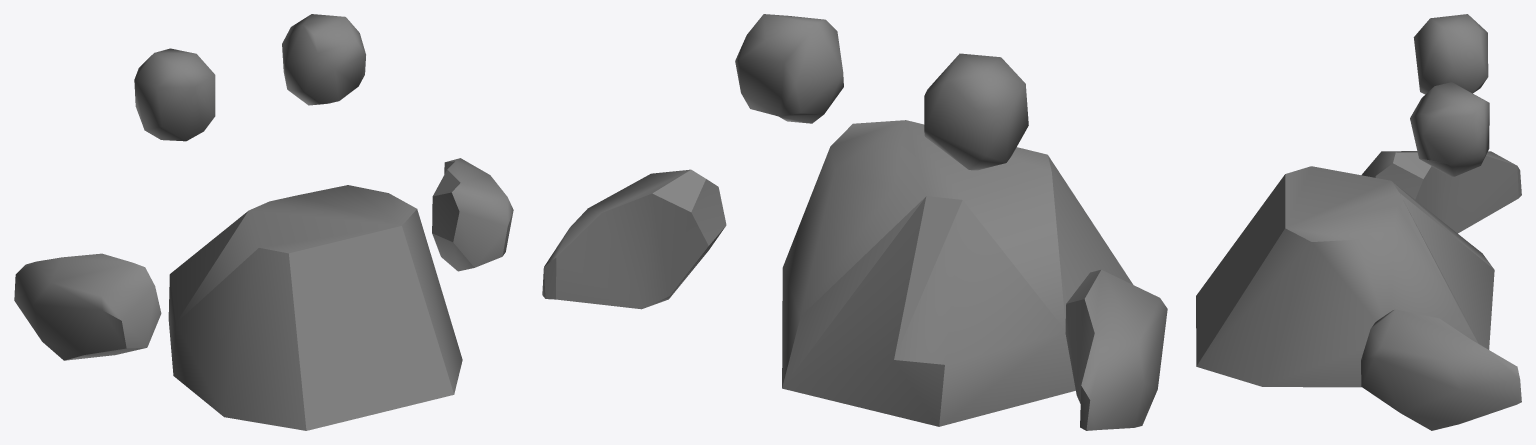
The model's file is Miss Crab.fbx.
3 views of the same model, side by side, from view 1: azimuth 30°, elevation 25°; view 2: azimuth 150°, elevation 25°; view 3: azimuth 270°, elevation 25° (orthographic). The views are drawn at different scales.
Parts seen in each view (by area): view 1: Miss_Crab:crab; view 2: Miss_Crab:crab; view 3: Miss_Crab:crab.
Part boxes in pixels (bbox=[...]): Miss_Crab:crab: bbox=[14, 14, 513, 430]; Miss_Crab:crab: bbox=[542, 14, 1167, 430]; Miss_Crab:crab: bbox=[1196, 14, 1521, 430].
Bounding box in the file's own units: 634 × 372 × 395.
